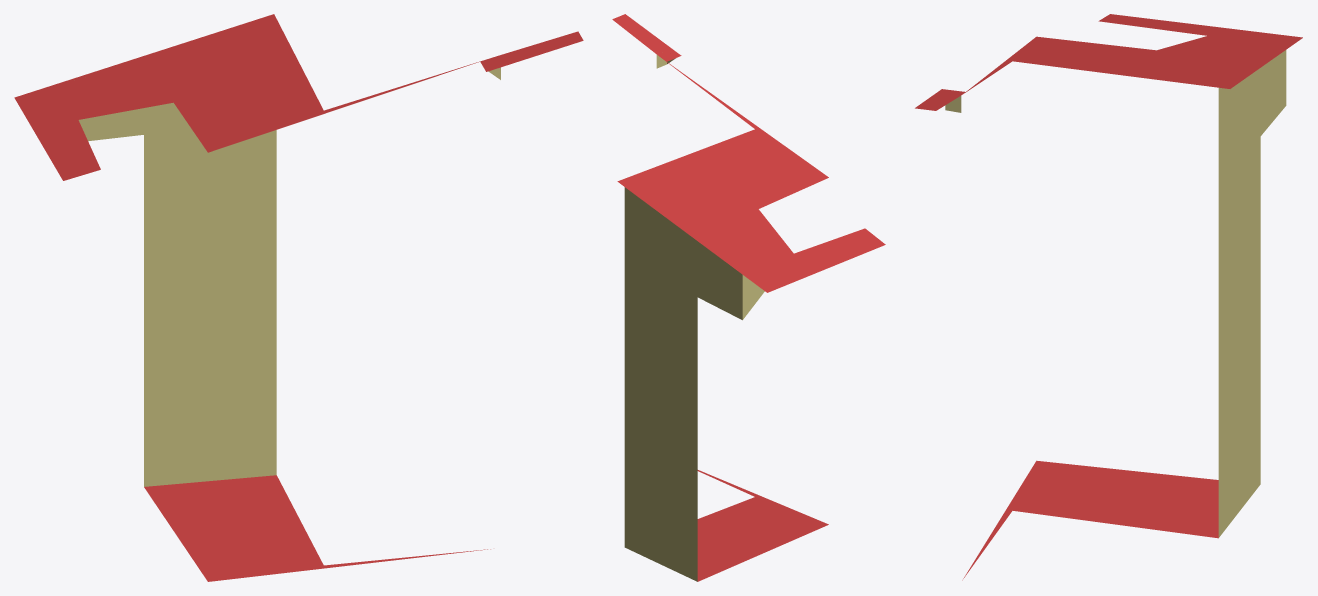
3 renders of one model, left to right at view 1: azimuth 30°, elevation 25°; view 2: azimuth 150°, elevation 25°; view 3: azimuth 270°, elevation 25°, orthographic. The views are drawn at different scales.
Bounding box in the file's own units: 8.76 × 6.99 × 9.99.
